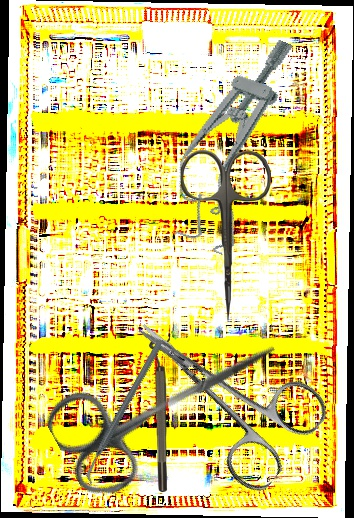Chopper: (44, 339, 204, 488)
Fixation Ring: (149, 337, 170, 492)
Iris Scissors: (39, 296, 299, 508), (105, 278, 336, 499), (181, 150, 271, 321)
Speculum: (154, 22, 309, 258)
